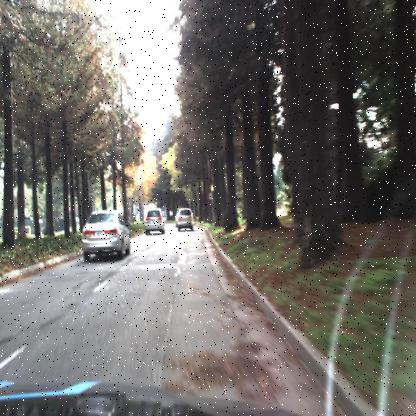car: (81, 210, 129, 260), (142, 205, 168, 239), (176, 205, 198, 232)
